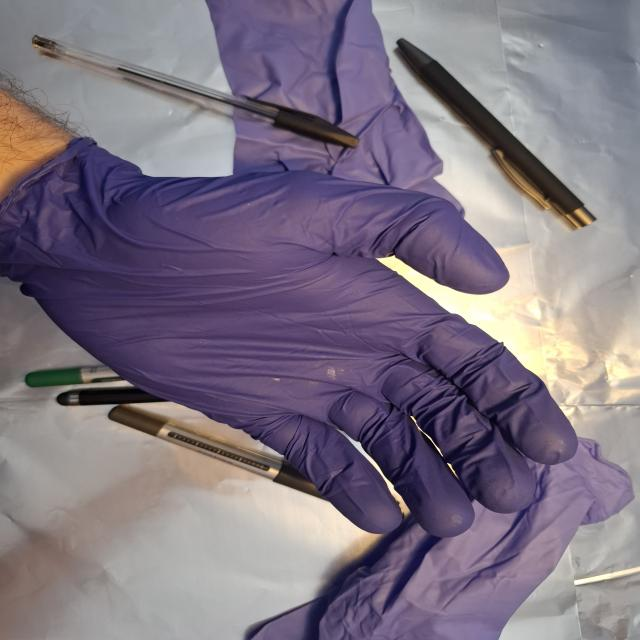glove_on: (13, 140, 583, 542)
